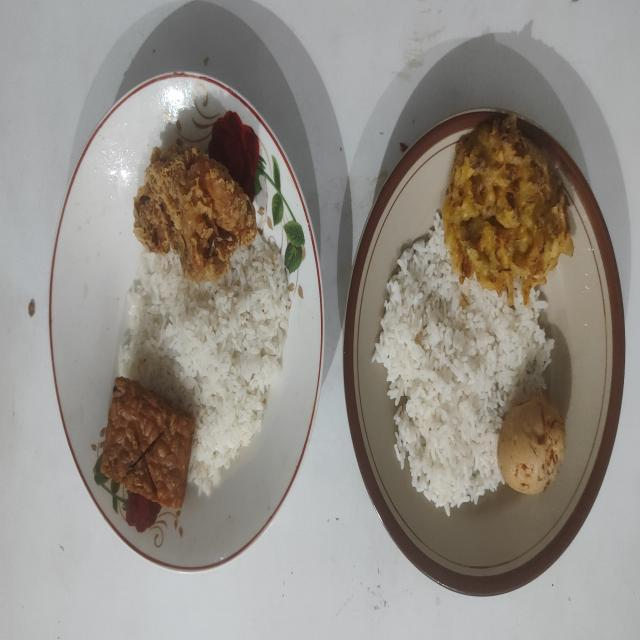nasi_putih: (372, 212, 554, 516), (118, 238, 292, 496)
tempe_goreng: (102, 377, 195, 508)
